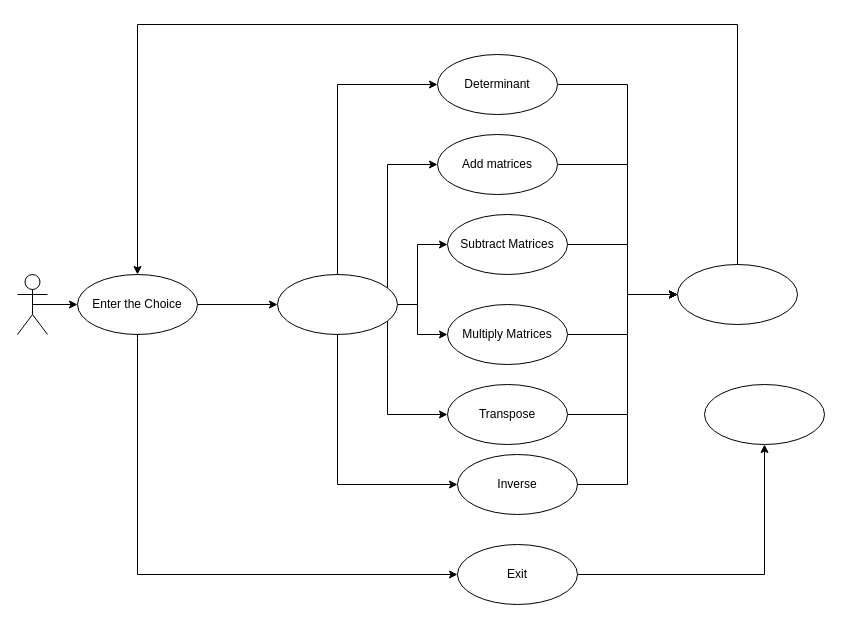
The diagram is 842 pixels wide and 622 high, and some of its shapes have lost their labels. The shapes that lost their labels are listed below. From the top down, each one's centre as x and y in pixels, then its label:
At (32,304): "User".
At (337,304): "User Input".
At (737,294): "Display output and back to enter choice".
At (764,414): "End Program".
